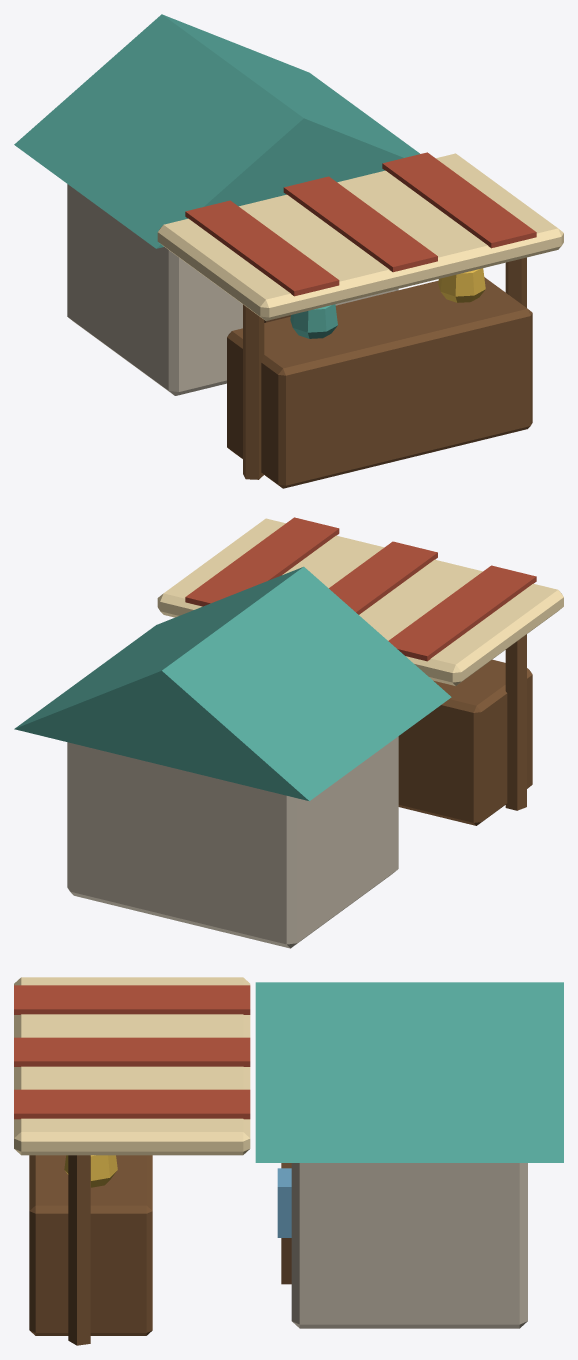
File: imp_trading_post.glb
The picture shows the model from 3 angles, top to bottom: view 1: azimuth 30°, elevation 25°; view 2: azimuth 150°, elevation 25°; view 3: azimuth 270°, elevation 25°; orthographic projection. The views are drawn at different scales.
Visible parts, largest first — view 1: imp_trading_post; view 2: imp_trading_post; view 3: imp_trading_post.
Part boxes in pixels (x1,y1,x2,y2): imp_trading_post: (14,14,563,488); imp_trading_post: (14,517,563,948); imp_trading_post: (14,977,563,1345).
Bounding box in the file's own units: 0.37 × 0.31 × 0.535.
